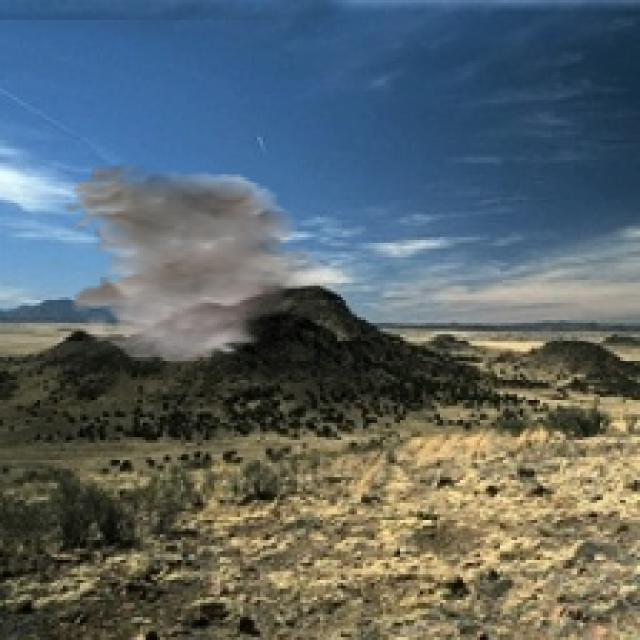Smoke: (62, 163, 328, 363)
